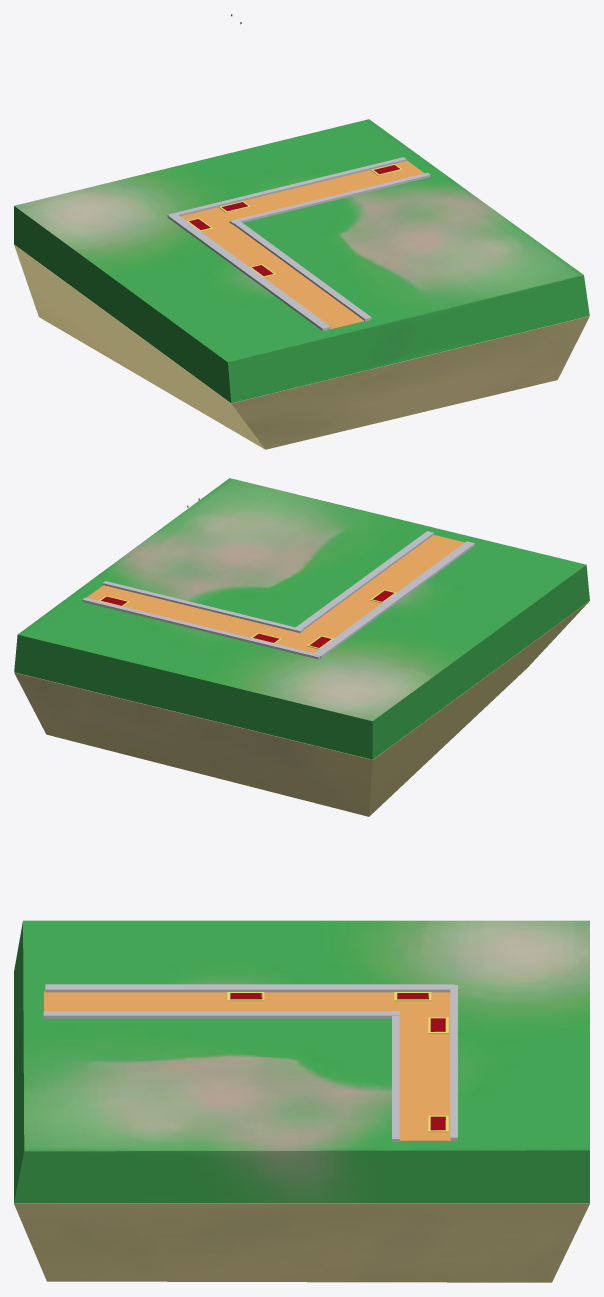
File: floor.glb
3 views of the same model, one above another, from view 1: azimuth 30°, elevation 25°; view 2: azimuth 150°, elevation 25°; view 3: azimuth 270°, elevation 25° (orthographic). The views are drawn at different scales.
Parts seen in each view (by area): view 1: Cube, Cube.001, Cube.032, Cube.002, Cube.003; view 2: Cube, Cube.001, Cube.032, Cube.002, Cube.003, Cube.007; view 3: Cube, Cube.001, Cube.032, Cube.002, Cube.003, Cube.007, Cube.004.
Part boxes in pixels (x1,y1,x2,y2): Cube: (14, 119, 589, 403); Cube.001: (14, 244, 589, 449); Cube.032: (167, 157, 430, 330); Cube.002: (180, 208, 364, 329); Cube.003: (214, 160, 424, 220); Cube: (14, 478, 589, 759); Cube.001: (14, 601, 589, 816); Cube.032: (82, 531, 474, 659); Cube.002: (281, 535, 464, 653); Cube.003: (86, 585, 297, 644); Cube.007: (101, 590, 393, 647); Cube: (14, 920, 589, 1203); Cube.001: (14, 1203, 589, 1282); Cube.032: (43, 984, 457, 1141); Cube.002: (44, 991, 450, 1015); Cube.003: (399, 1015, 451, 1140); Cube.007: (230, 993, 445, 1130); Cube.004: (227, 992, 448, 1132).
Bounding box in the file's own units: 731 × 509 × 767.
9 materials, 7 textured.
